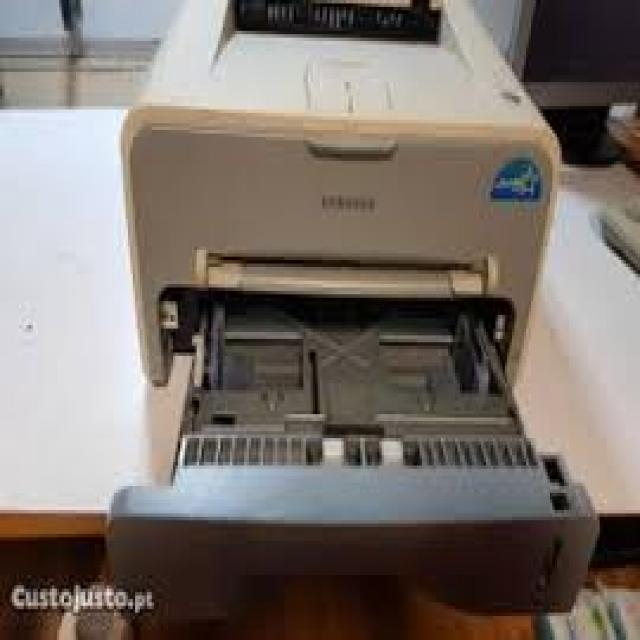printer: (106, 0, 600, 630)
